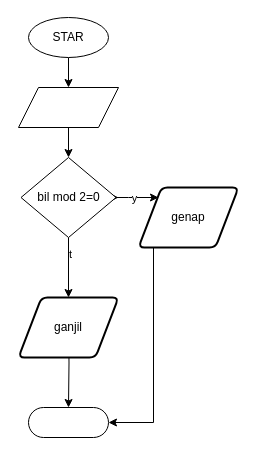
Some shapes in this 256 by 455 pixel diagram are drawn without their labels. Here are the shapes that lost their labels. From the top down, the box of each, then its label:
(18, 86, 118, 128): BIL
(28, 406, 108, 438): end
